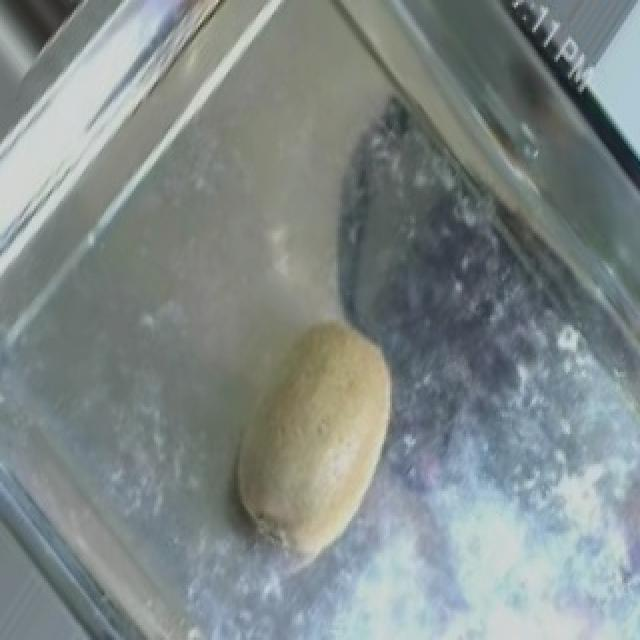Fruit: (210, 285, 414, 578)
